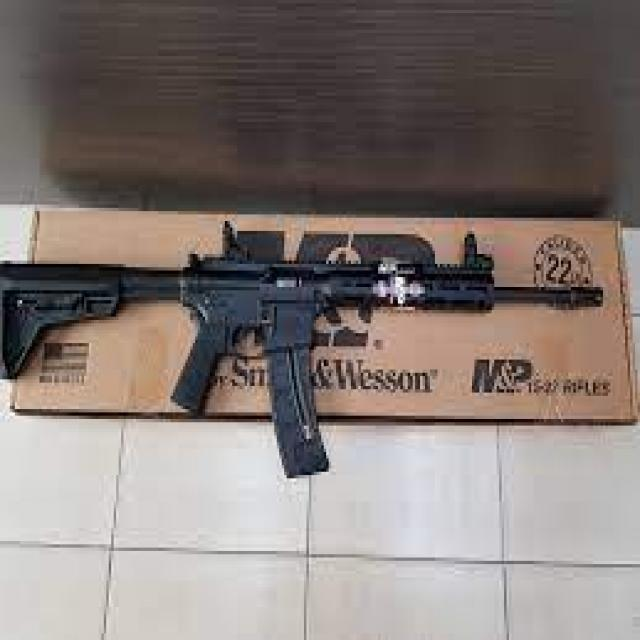m16: (19, 226, 622, 495)
